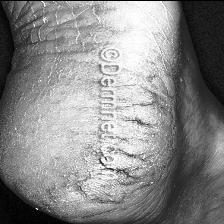Non-Cancerous Skin Condition: (119, 61, 166, 181)
